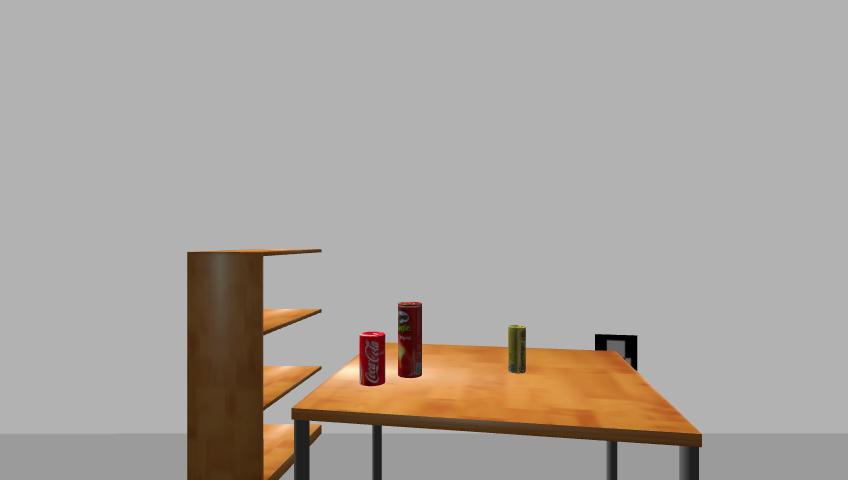aruco marker: (590, 332, 643, 376)
biscuits pack: (507, 325, 528, 375)
bookshelf: (182, 247, 330, 480)
coke can: (358, 331, 386, 387)
dinner table: (285, 342, 710, 479)
pringles can: (396, 301, 424, 380)
